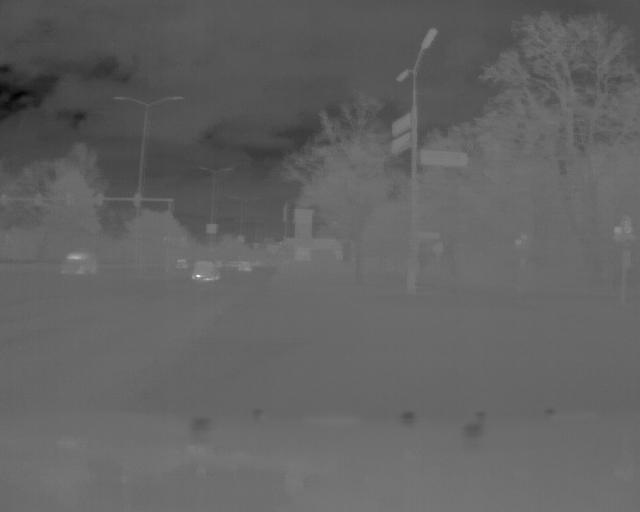car: (59, 246, 99, 274), (189, 257, 223, 283), (172, 256, 189, 270), (235, 259, 253, 272)
